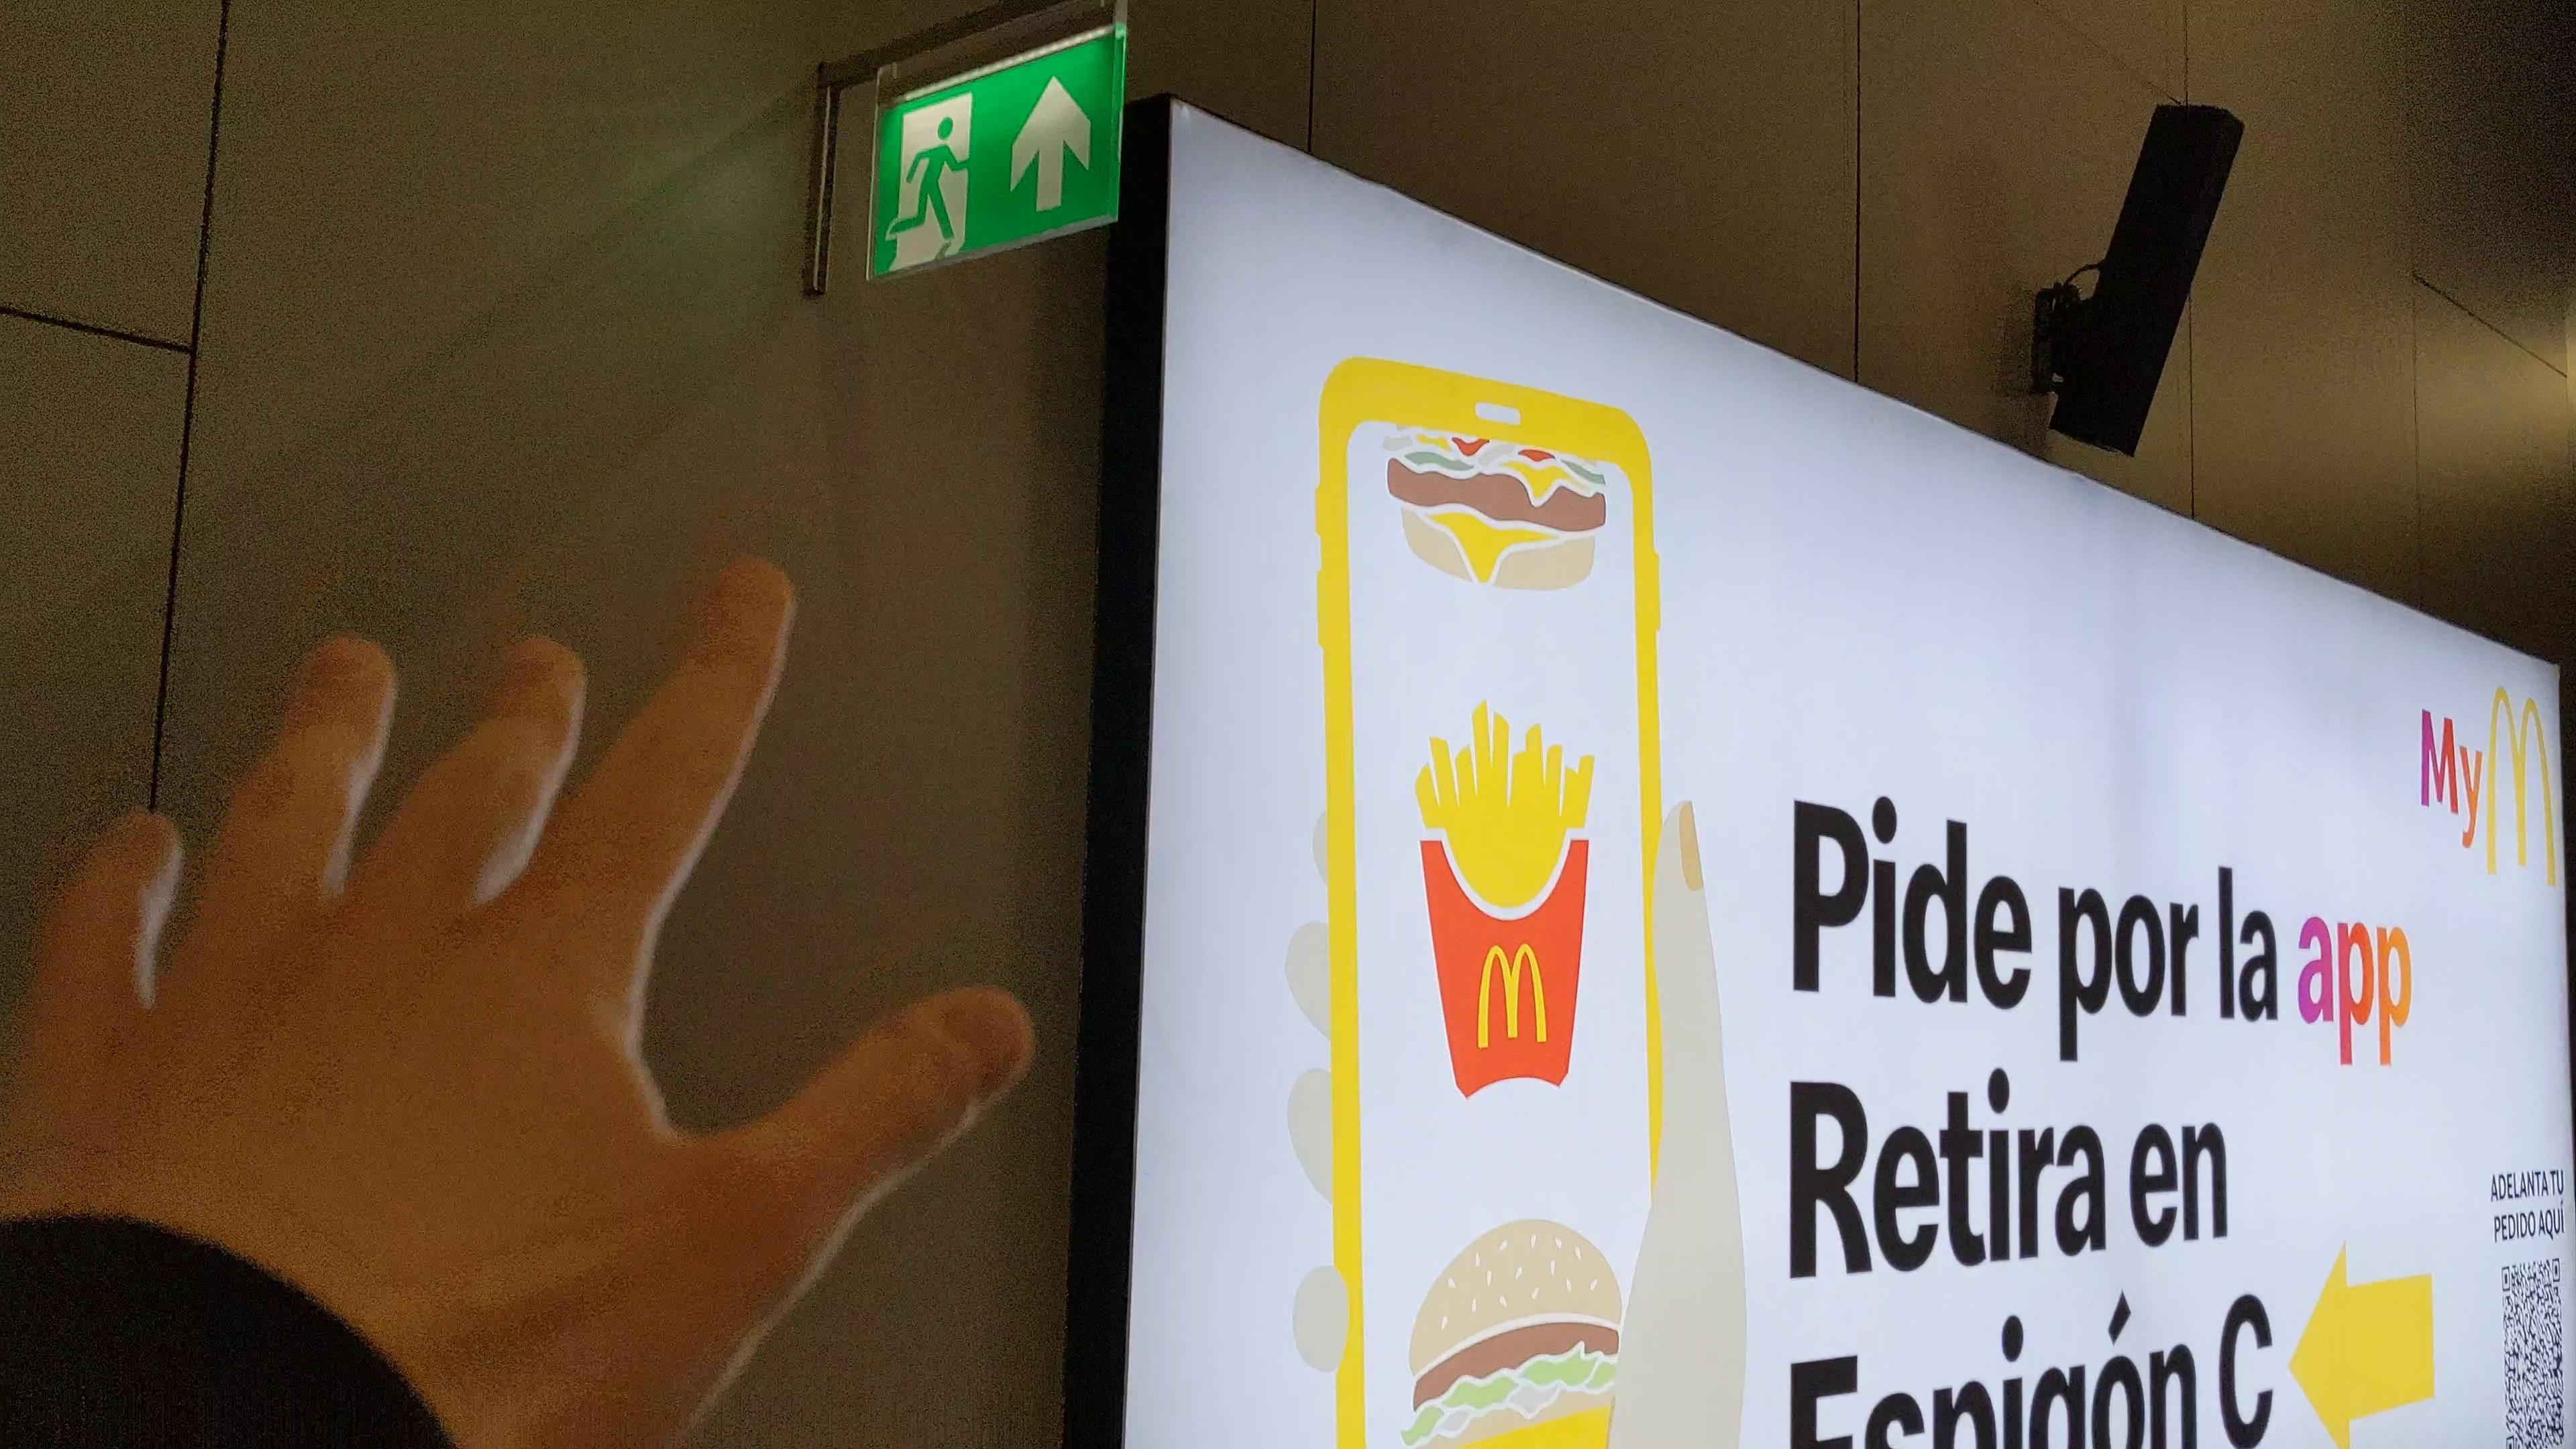emergency exit: (885, 90, 973, 274)
up arrow: (1005, 74, 1097, 218)
